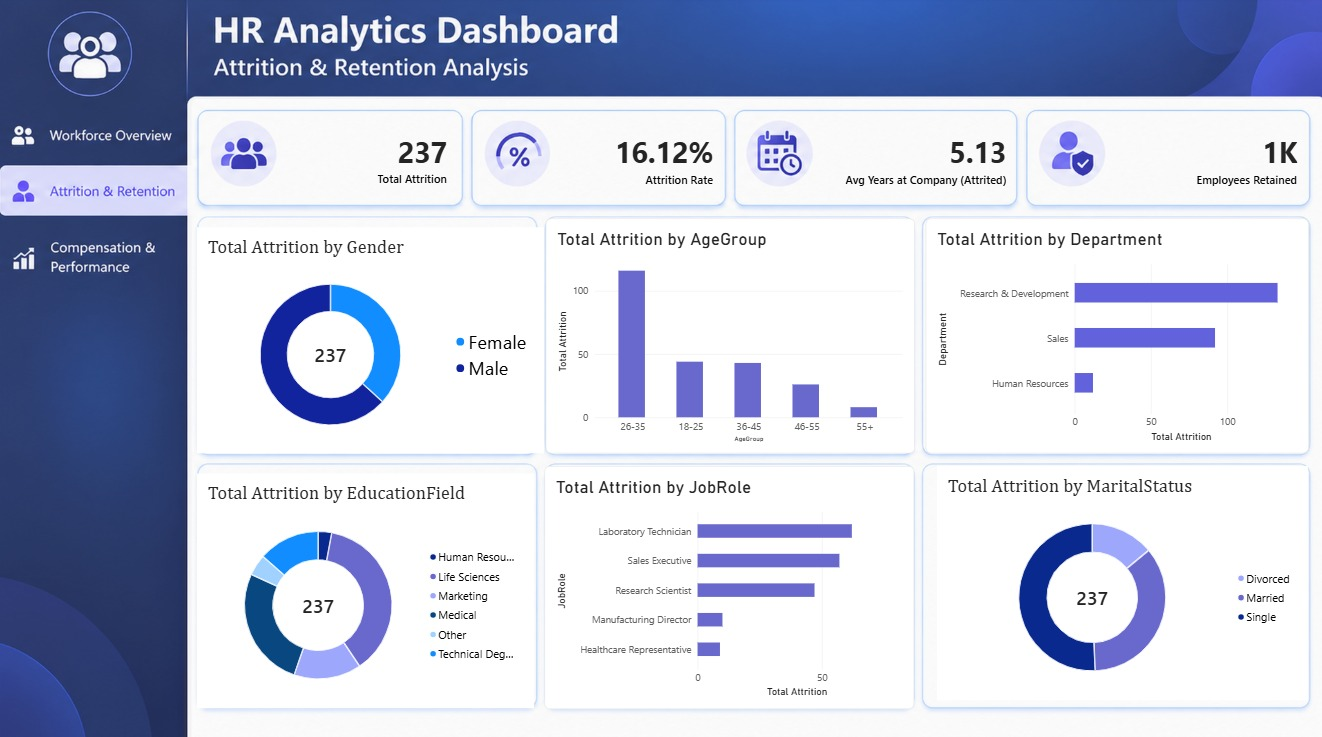

Layout of this report page (visuals, bound fields, positions):
{"tool":"powerbi","page":{"name":"Attrition & Retention","canvas":[1920,1080],"ordinal":1},"visuals":[{"type":"cardVisual","title":"dfdf","fields":{"Data":["HR_Analytics_Cleaned.Total Attrition"]},"box":[508.5,170.1,159.3,133.9],"z":0},{"type":"cardVisual","title":"dfdf","fields":{"Data":["HR_Analytics_Cleaned.Attrition Rate"]},"box":[687.9,170,365.7,134.3],"z":1000},{"type":"cardVisual","title":"dfdf","fields":{"Data":["HR_Analytics_Cleaned.Avg Years at Company (Attrited)"]},"box":[1100,170,377.1,134.3],"z":2000},{"type":"cardVisual","title":"dfdf","fields":{"Data":["HR_Analytics_Cleaned.Employees Retained"]},"box":[1498,170,400,134],"z":3000},{"type":"donutChart","fields":{"Series":["HR_Analytics_Cleaned.Gender"],"Y":["HR_Analytics_Cleaned.Total Attrition"]},"box":[290,335,502.5,327.5],"z":4000},{"type":"clusteredColumnChart","fields":{"Category":["HR_Analytics_Cleaned.AgeGroup"],"Y":["HR_Analytics_Cleaned.Total Attrition"]},"box":[794,322,534,340],"z":5000},{"type":"clusteredBarChart","fields":{"Category":["HR_Analytics_Cleaned.Department"],"Y":["HR_Analytics_Cleaned.Total Attrition"]},"box":[1344,322,554,340],"z":6000},{"type":"clusteredBarChart","fields":{"Category":["HR_Analytics_Cleaned.JobRole"],"Y":["HR_Analytics_Cleaned.Total Attrition"]},"box":[793.3,680,535,351.7],"z":7000},{"type":"actionButton","box":[16.4,351.5,247.9,61.5],"z":8000},{"type":"actionButton","box":[16.4,189.1,250.8,61.7],"z":9000},{"type":"donutChart","fields":{"Series":["HR_Analytics_Cleaned.EducationField"],"Y":["HR_Analytics_Cleaned.Total Attrition"]},"box":[290,692,488,340],"z":10000},{"type":"donutChart","fields":{"Series":["HR_Analytics_Cleaned.MaritalStatus"],"Y":["HR_Analytics_Cleaned.Total Attrition"]},"box":[1360.9,680.4,536.5,339.2],"z":11000}]}

Visuals, with their boxes on the page's 1920x1080 design canvas (x1, y1, x2, y2). These are canvas units, not pixel positions in the 1322x737 screenshot, which may show the page scaled, cropped or inside an application window:
"dfdf" cardVisual: (508, 170, 668, 304)
"dfdf" cardVisual: (688, 170, 1054, 304)
"dfdf" cardVisual: (1100, 170, 1477, 304)
"dfdf" cardVisual: (1498, 170, 1898, 304)
donutChart - HR_Analytics_Cleaned.Gender x HR_Analytics_Cleaned.Total Attrition: (290, 335, 792, 662)
clusteredColumnChart - HR_Analytics_Cleaned.AgeGroup x HR_Analytics_Cleaned.Total Attrition: (794, 322, 1328, 662)
clusteredBarChart - HR_Analytics_Cleaned.Department x HR_Analytics_Cleaned.Total Attrition: (1344, 322, 1898, 662)
clusteredBarChart - HR_Analytics_Cleaned.JobRole x HR_Analytics_Cleaned.Total Attrition: (793, 680, 1328, 1032)
actionButton: (16, 352, 264, 413)
actionButton: (16, 189, 267, 251)
donutChart - HR_Analytics_Cleaned.EducationField x HR_Analytics_Cleaned.Total Attrition: (290, 692, 778, 1032)
donutChart - HR_Analytics_Cleaned.MaritalStatus x HR_Analytics_Cleaned.Total Attrition: (1361, 680, 1897, 1020)
